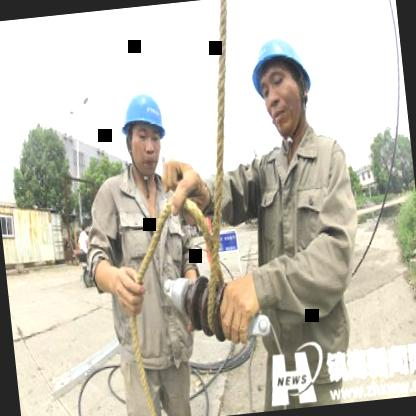helmet: (242, 17, 320, 142), (113, 82, 174, 179)
